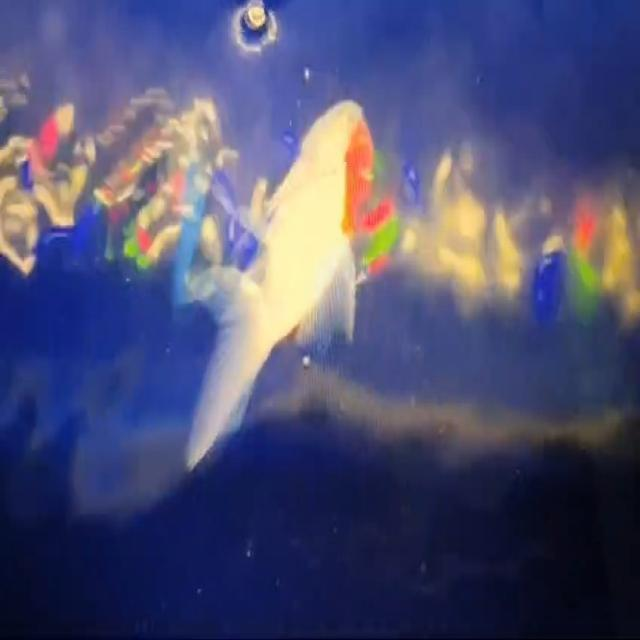fish: (185, 90, 378, 482)
